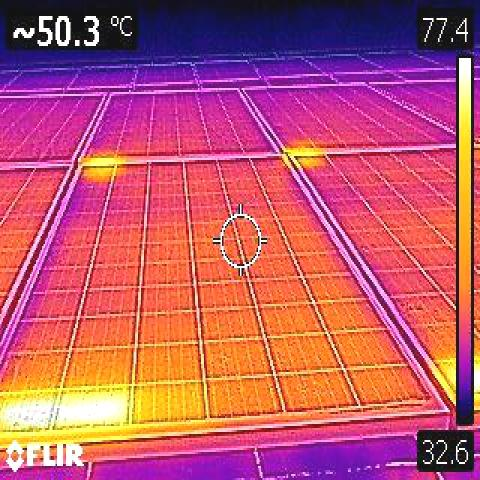fault: (59, 394, 127, 425), (0, 396, 52, 428)
